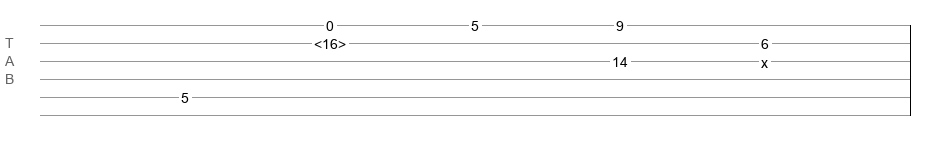0: (326, 18, 334, 28)
14: (612, 54, 628, 64)
5: (181, 90, 189, 100), (471, 18, 479, 28)
6: (761, 36, 769, 46)
9: (616, 18, 624, 28)
harmonic: (314, 36, 346, 46)
x: (761, 55, 768, 63)
